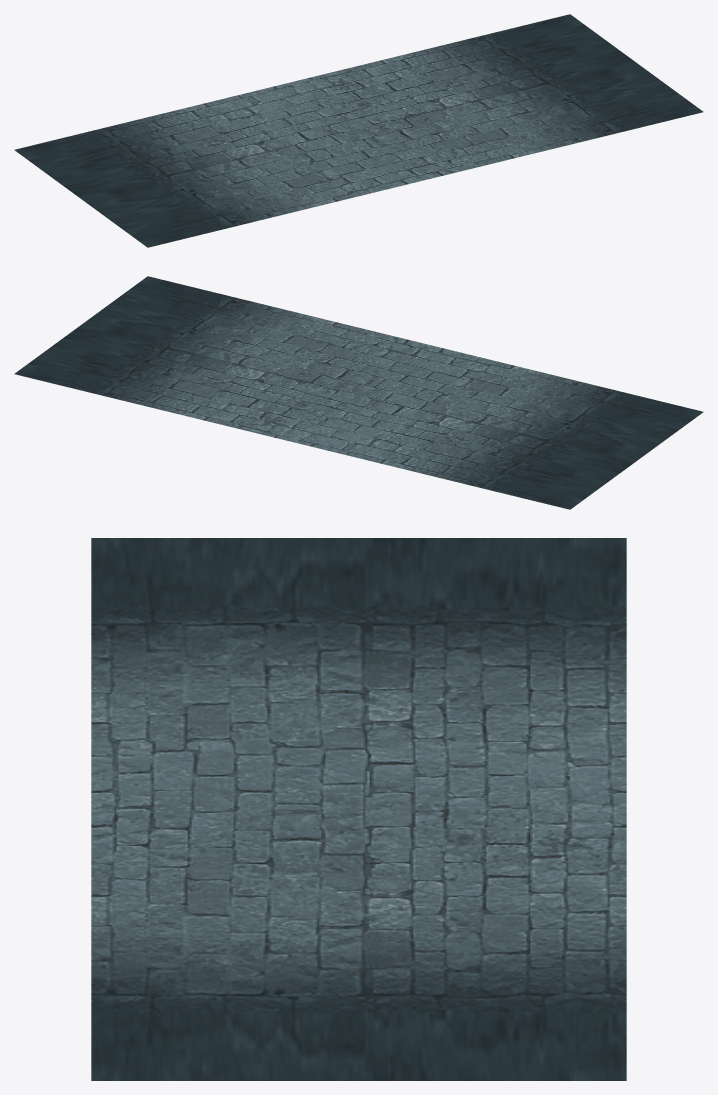
Rendered from FB_Dixiashuidao_Dibiao.FBX.
3 views of the same model, one above another, from view 1: azimuth 30°, elevation 25°; view 2: azimuth 150°, elevation 25°; view 3: azimuth 270°, elevation 25° (orthographic). The views are drawn at different scales.
Visible parts, largest first — view 1: Object03; view 2: Object03; view 3: Object03.
Part boxes in pixels (bbox=[...]): Object03: bbox=[14, 14, 703, 247]; Object03: bbox=[14, 276, 703, 509]; Object03: bbox=[91, 538, 626, 1080].
Bounding box in the file's own units: 24 × 2.83e-15 × 10.
